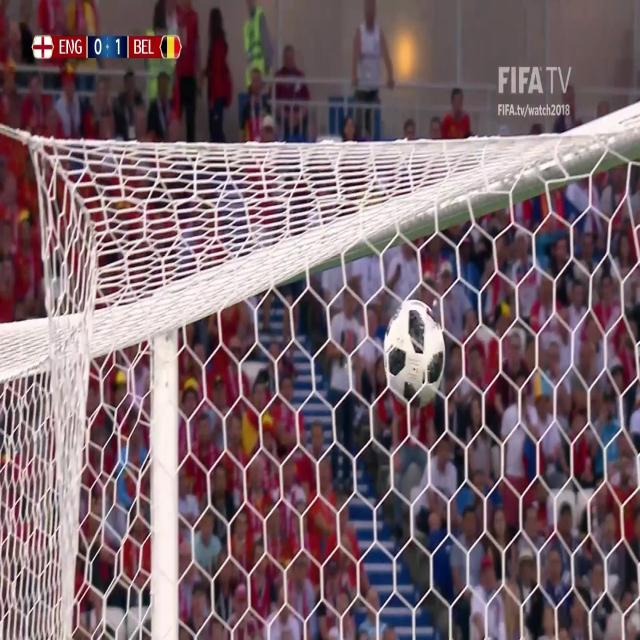ball: (380, 294, 449, 408)
